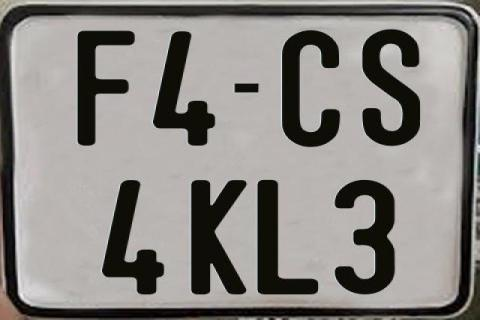0: (102, 180, 169, 298), (153, 30, 216, 146), (335, 180, 396, 297)
C: (280, 30, 344, 150)
F: (76, 30, 136, 148)
K: (188, 180, 249, 298)
L: (257, 180, 322, 298)
S: (360, 29, 424, 147)
